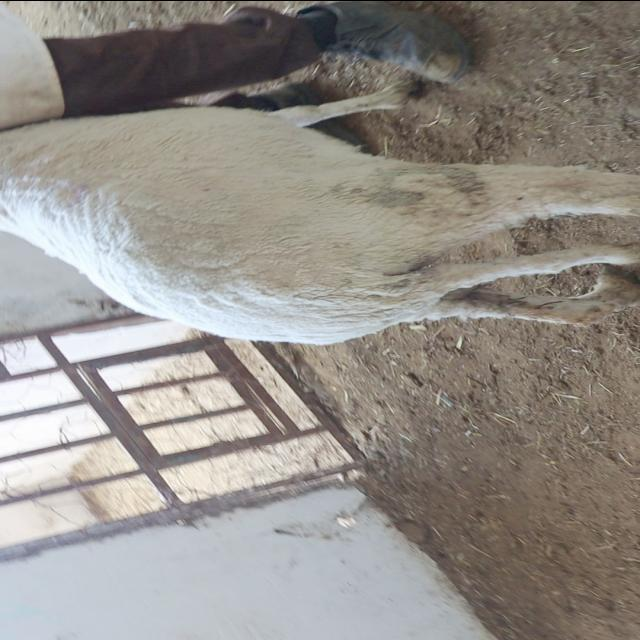Score_4: (0, 81, 639, 344)
